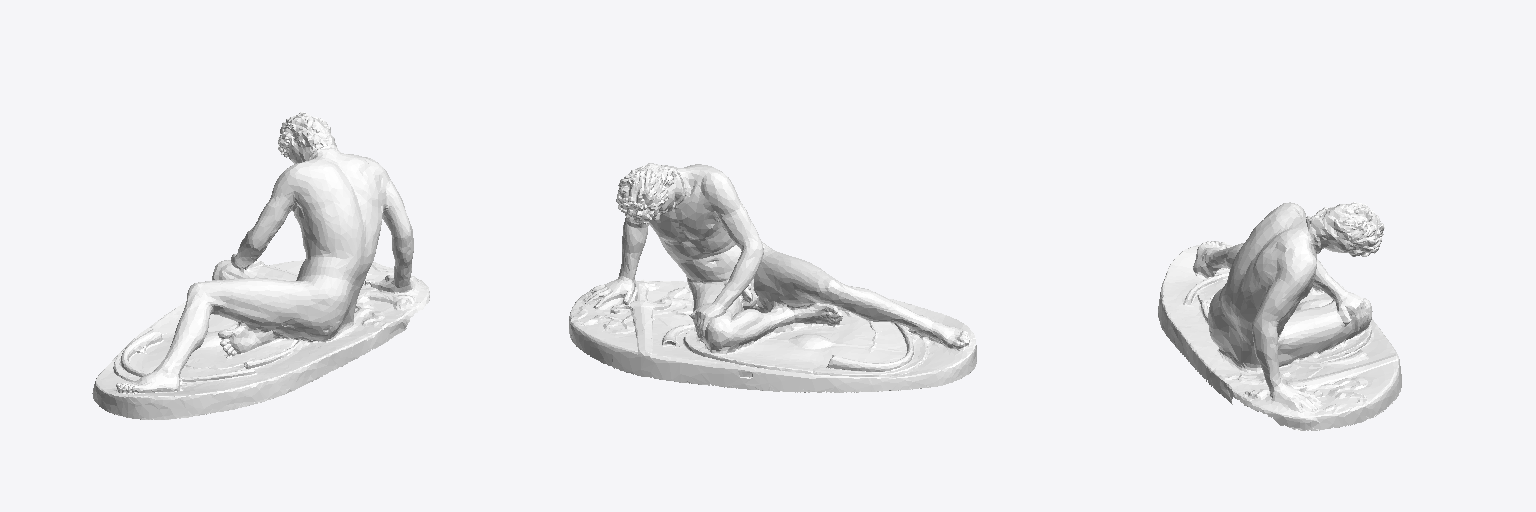
File: gaul.obj
3 views of the same model, side by side, from view 1: azimuth 30°, elevation 25°; view 2: azimuth 150°, elevation 25°; view 3: azimuth 270°, elevation 25° (orthographic).
Parts seen in each view (by area): view 1: gaulkk; view 2: gaulkk; view 3: gaulkk.
Part boxes in pixels (left/top/right/bottom): gaulkk: left=92, top=112, right=429, bottom=419; gaulkk: left=569, top=163, right=976, bottom=392; gaulkk: left=1158, top=202, right=1401, bottom=430.
Size of the model in its own units: 2 by 0.9973 by 1.19.